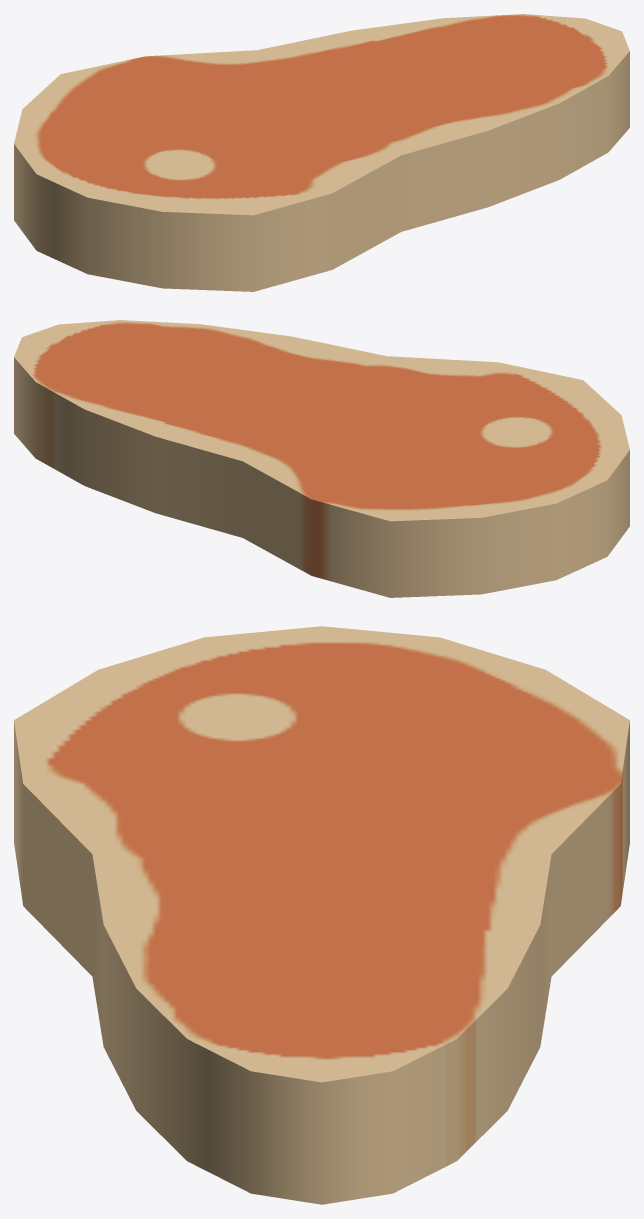
Rendered from steak.fbx.
The picture shows the model from 3 angles, top to bottom: view 1: azimuth 30°, elevation 25°; view 2: azimuth 150°, elevation 25°; view 3: azimuth 270°, elevation 25°; orthographic projection. The views are drawn at different scales.
Visible parts, largest first — view 1: pCylinder1; view 2: pCylinder1; view 3: pCylinder1.
Part boxes in pixels (<box>): pCylinder1: <box>14,14,629,291</box>; pCylinder1: <box>14,320,629,597</box>; pCylinder1: <box>14,626,629,1204</box>.
Size of the model in its own units: 0.8 by 0.1 by 0.4564.
